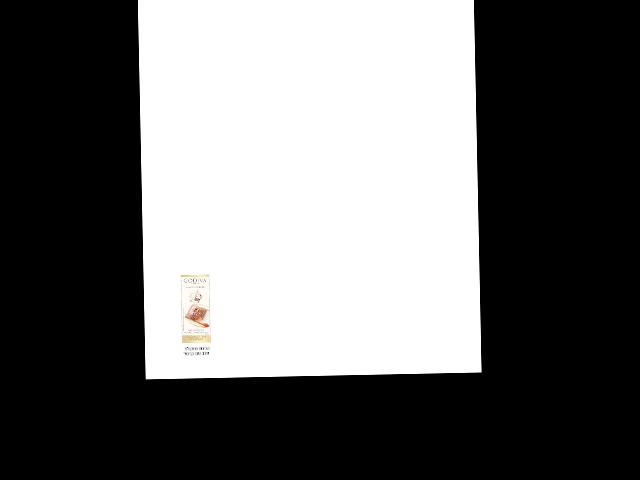chocolate: (181, 272, 213, 345)
